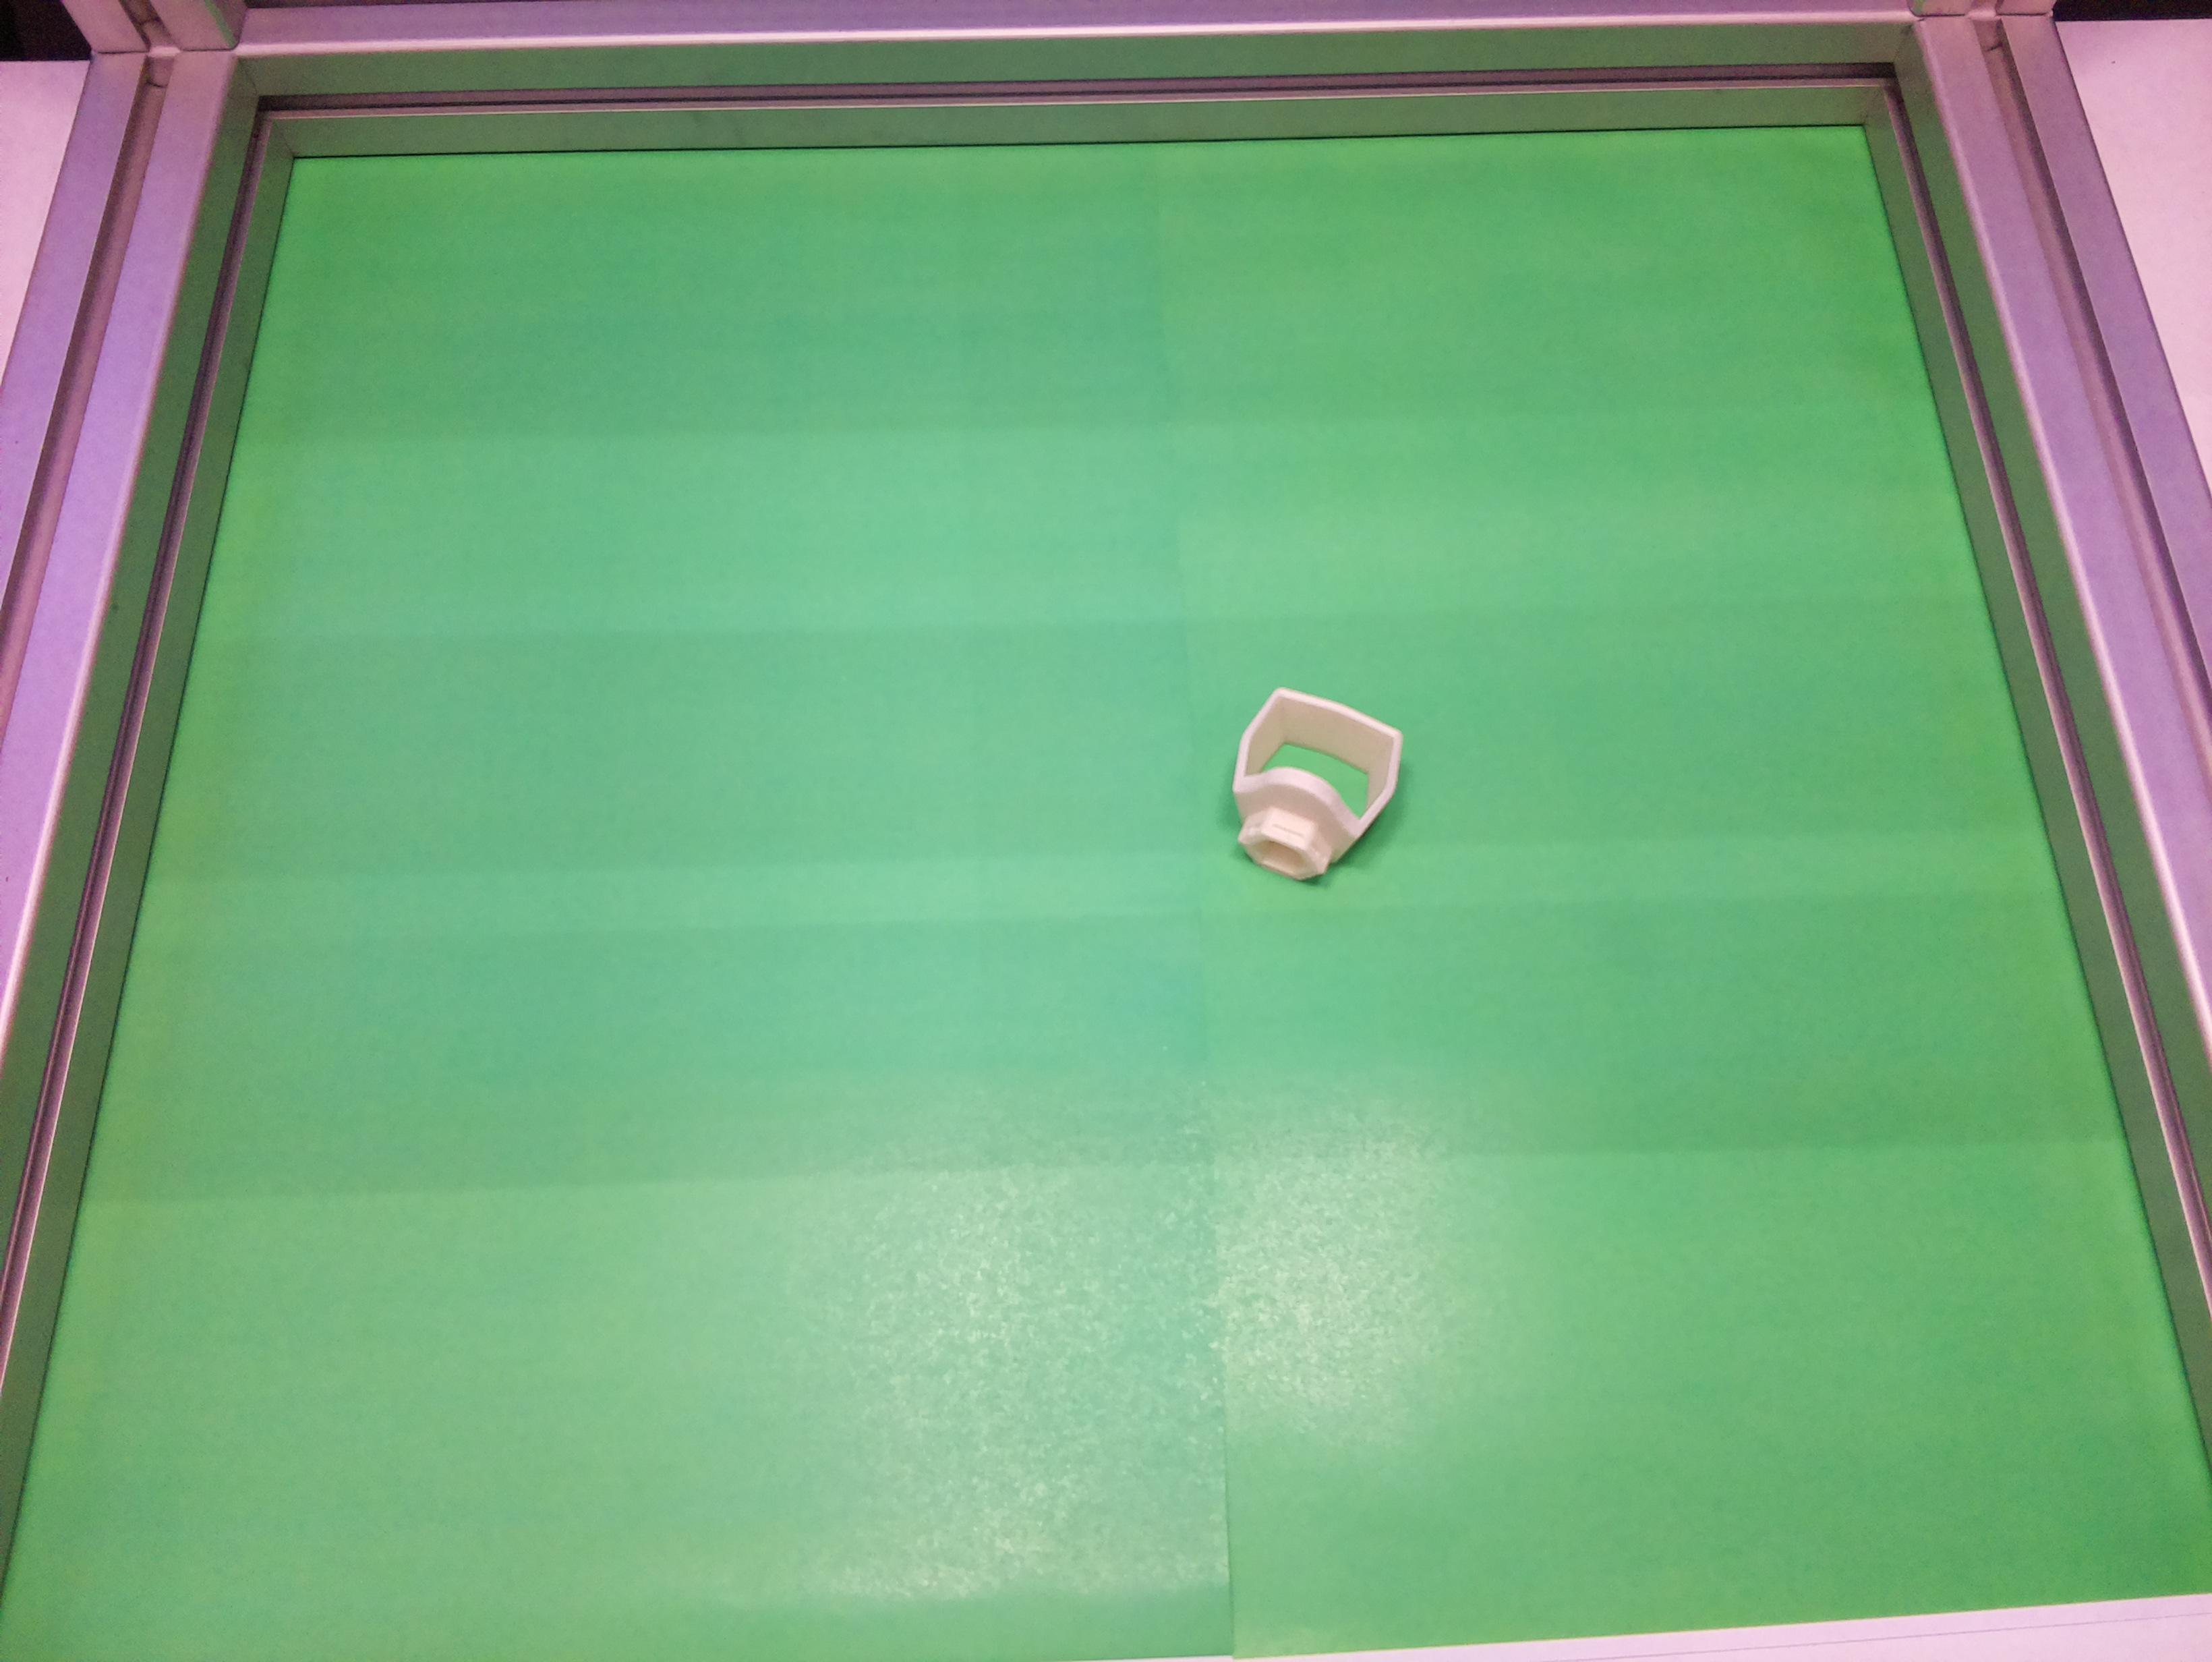tool_holder: (1208, 681, 1412, 899)
